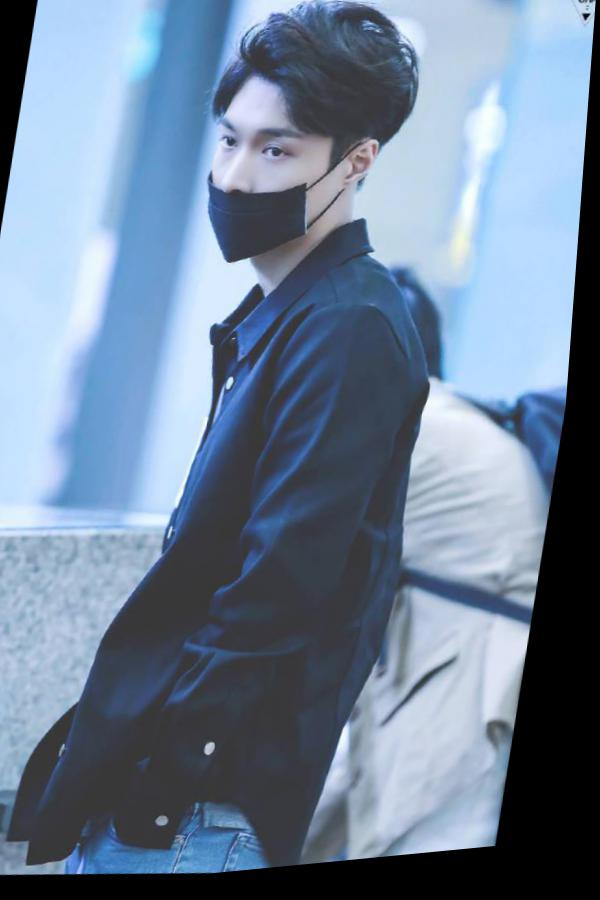WRONG: (197, 98, 338, 277)
